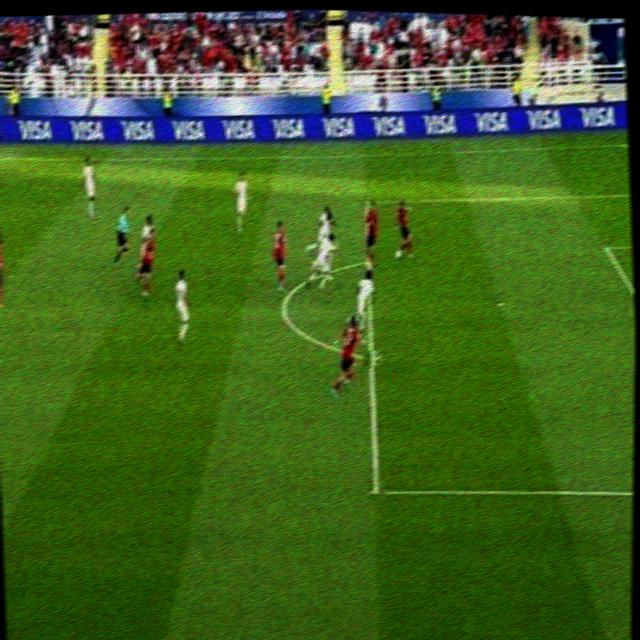bigarea_bottom_inner: (367, 478, 386, 501)
bigarea_top_inner: (362, 194, 373, 208)
bottom_arc_area_intersection: (362, 349, 382, 367)
smallarea_top_inner: (599, 238, 613, 257)
